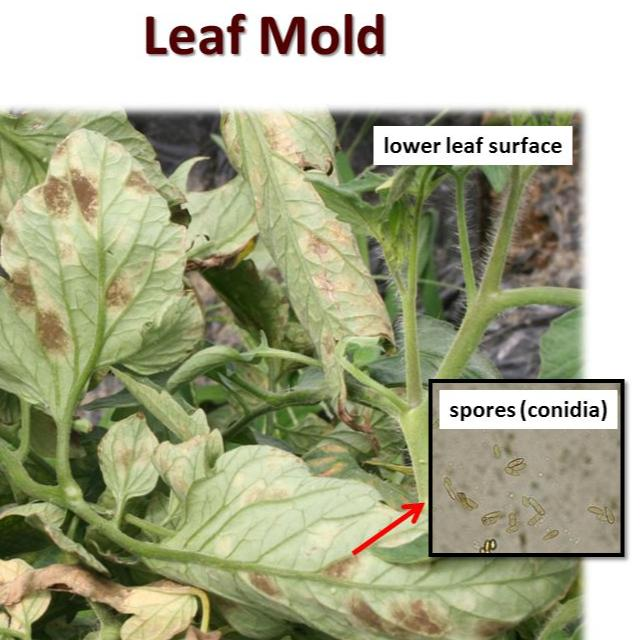Tomato mold leaf: (148, 428, 565, 640), (0, 123, 193, 425), (203, 113, 393, 400), (88, 409, 166, 509)
